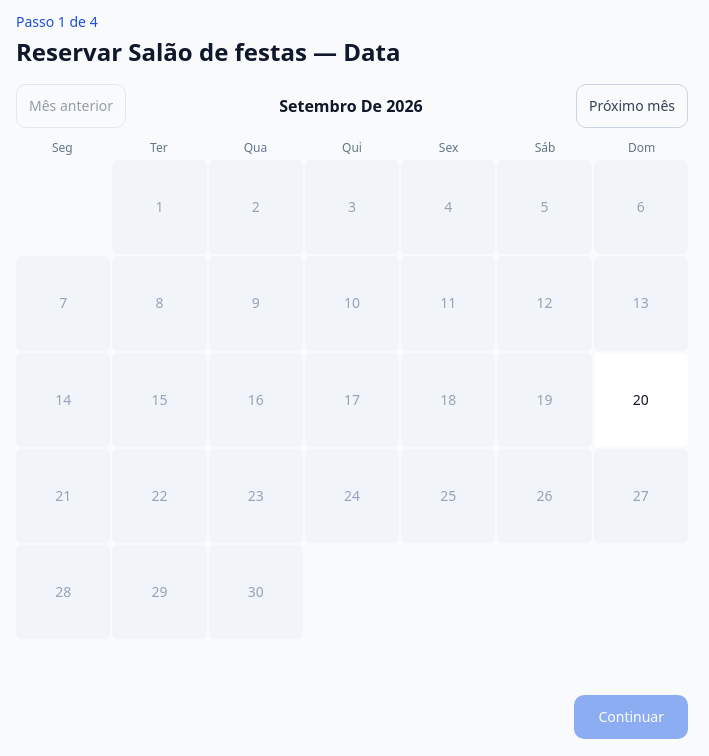
Test: ReservationWizardPage (RF-RES-02/03, RNF-05) › slots ocupados não são selecionáveis
Click the button "20" at point(641, 400), box [594, 353, 688, 447]
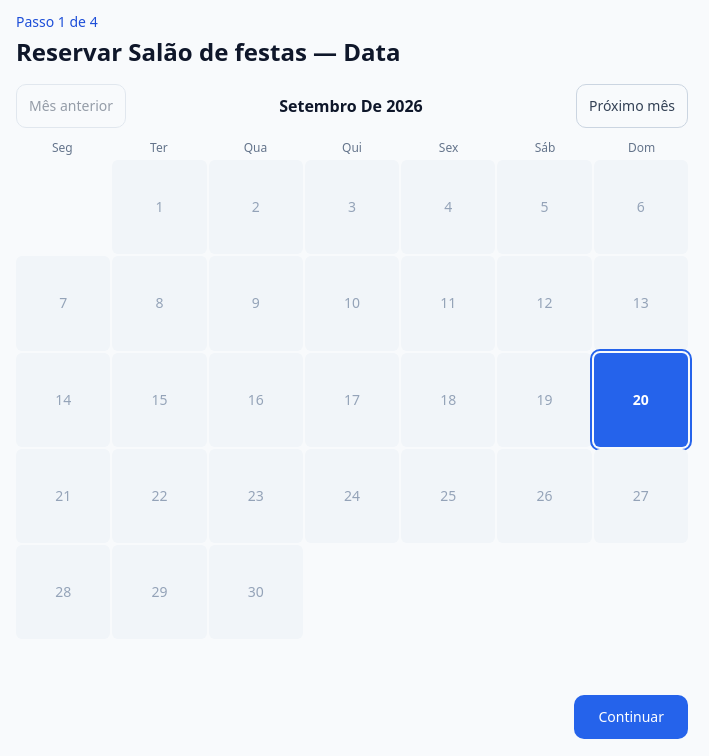
Click the button "Continuar" at point(631, 718), box [574, 696, 688, 740]
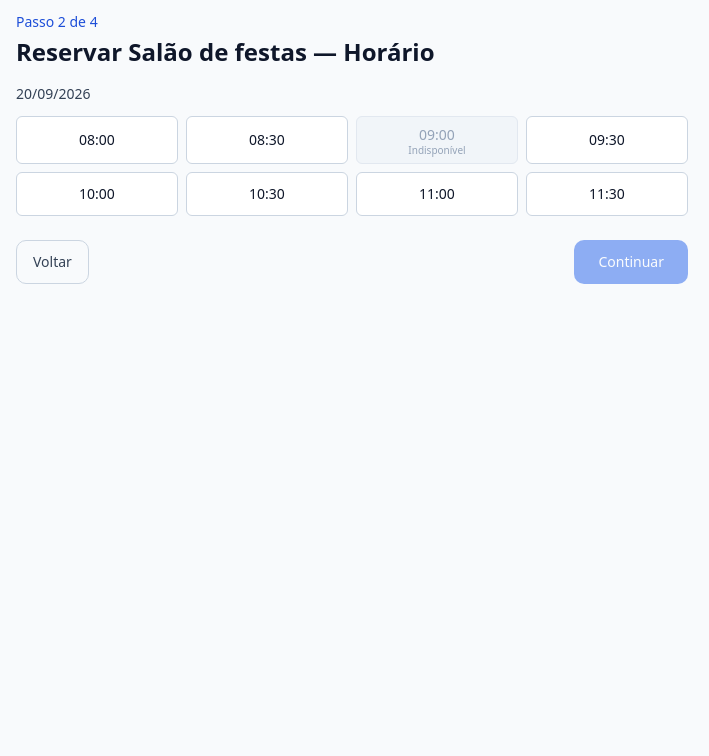
Result: the button "09:00 Indisponível" is disabled at [356, 116, 518, 164]
